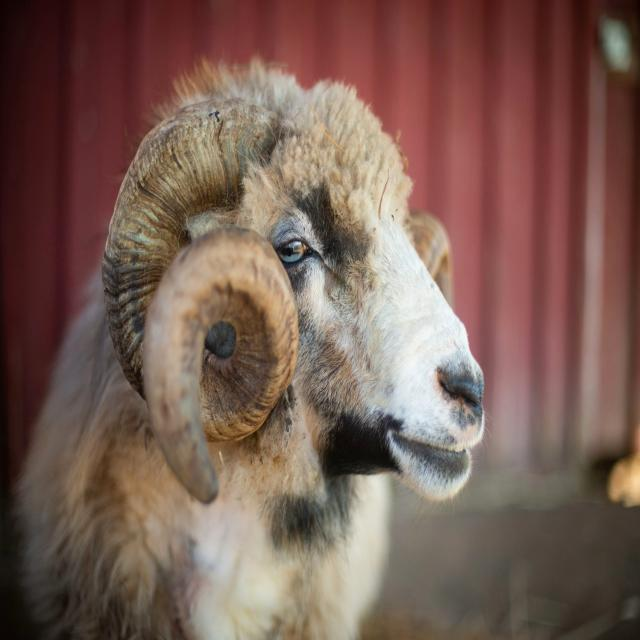sheep: (18, 63, 485, 640)
